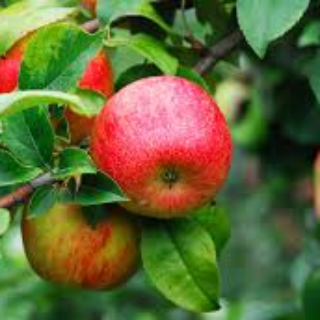tao: (91, 71, 238, 222)
